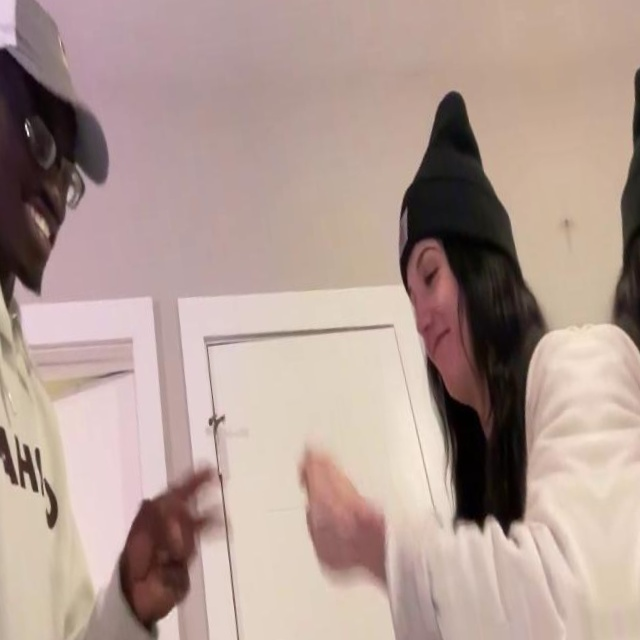Rock: (293, 440, 380, 587)
Scissors: (118, 464, 241, 623)
